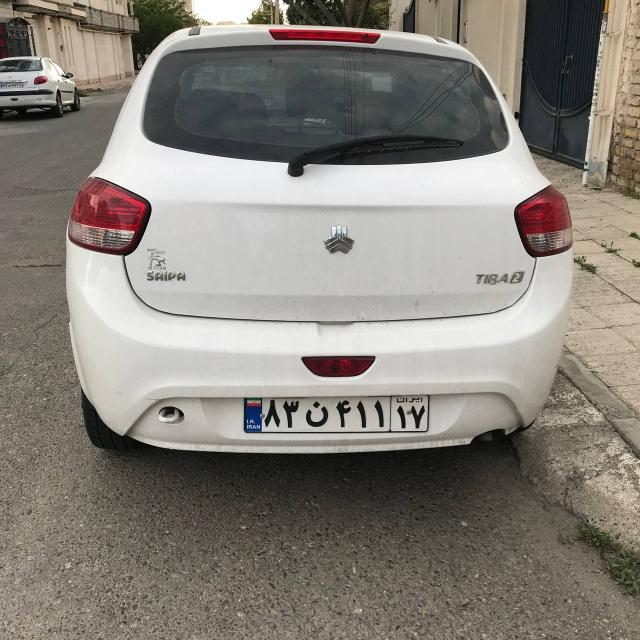Plates: (245, 396, 429, 432)
